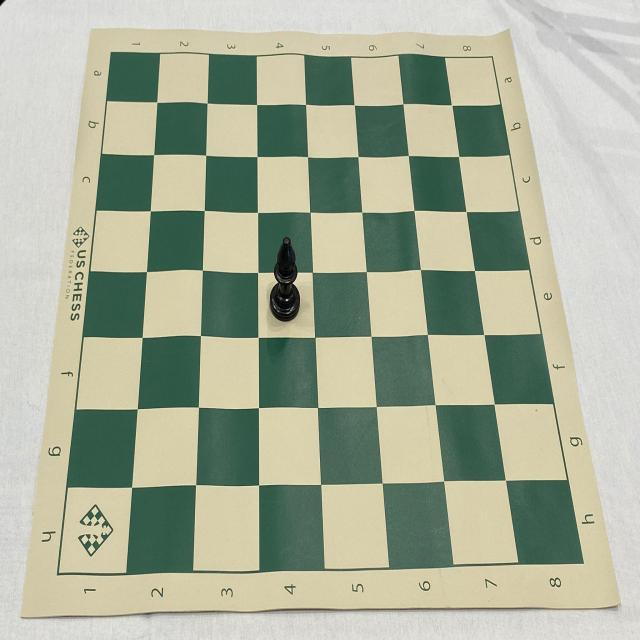black-bishop: (268, 235, 301, 323)
